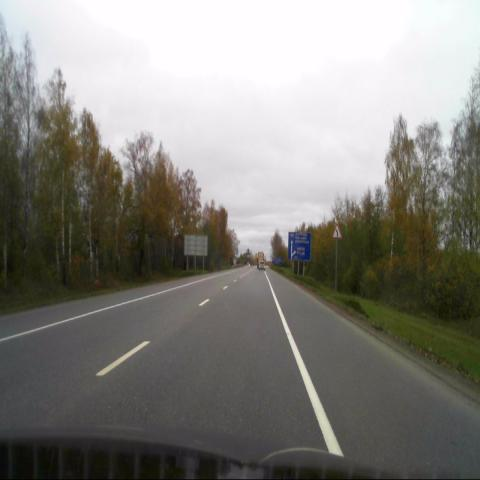1_11_1: (332, 222, 342, 238)
